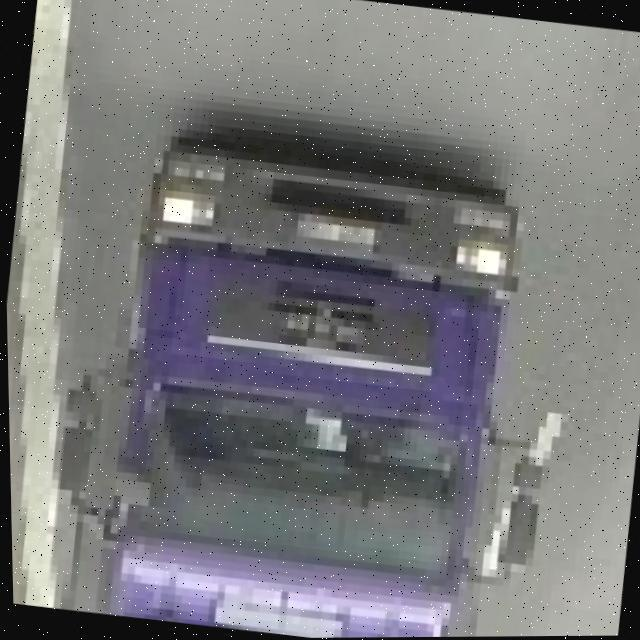truck: (33, 116, 584, 640)
